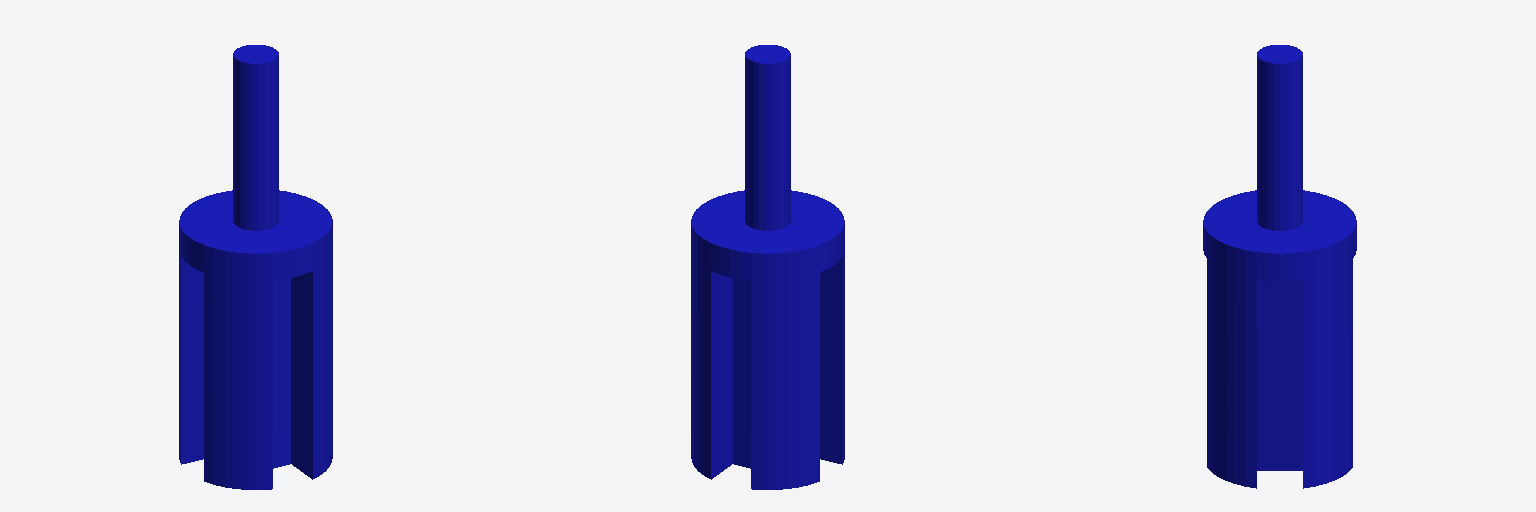
File: blue.obj
The picture shows the model from 3 angles: view 1: azimuth 30°, elevation 25°; view 2: azimuth 150°, elevation 25°; view 3: azimuth 270°, elevation 25°; orthographic projection.
Parts seen in each view (by area): view 1: 미로1.001; view 2: 미로1.001; view 3: 미로1.001.
Boxes of the visible parts, <box> form: 미로1.001: <box>179,45,332,489</box>; 미로1.001: <box>691,45,844,489</box>; 미로1.001: <box>1203,45,1356,488</box>.
Size of the model in its own units: 10 by 29 by 10.